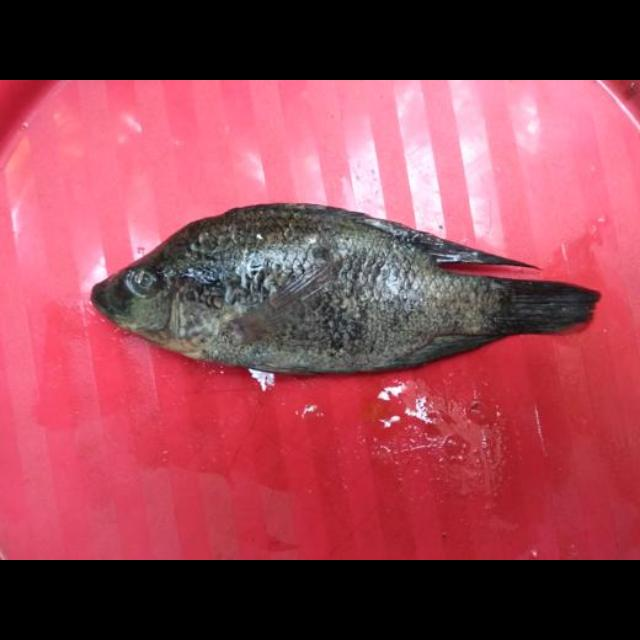Tilapia: (92, 203, 602, 373)
